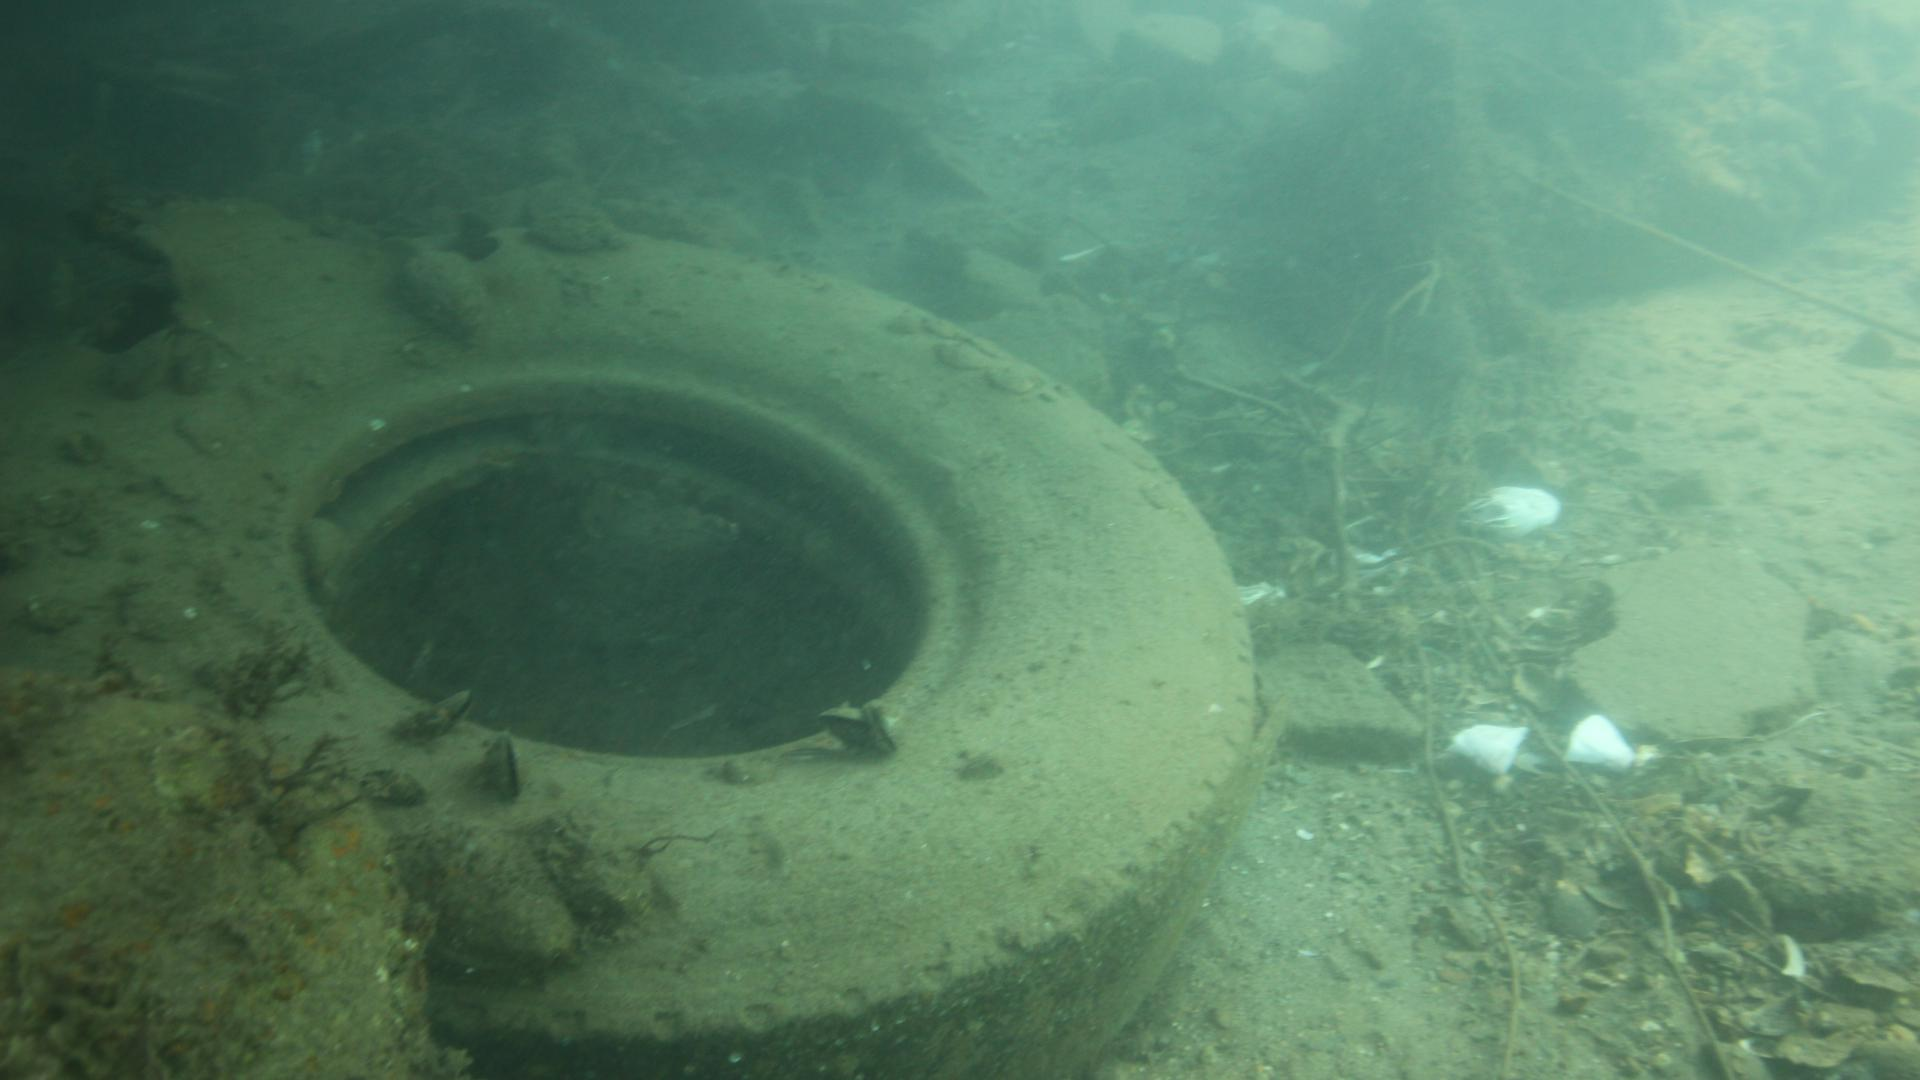tire: (0, 225, 1255, 1080)
